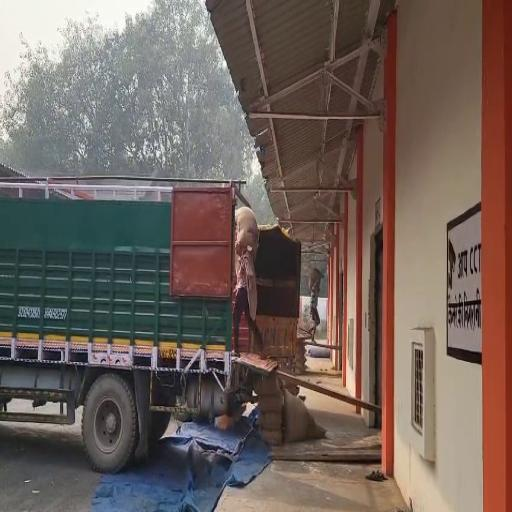bag: (234, 206, 263, 262)
